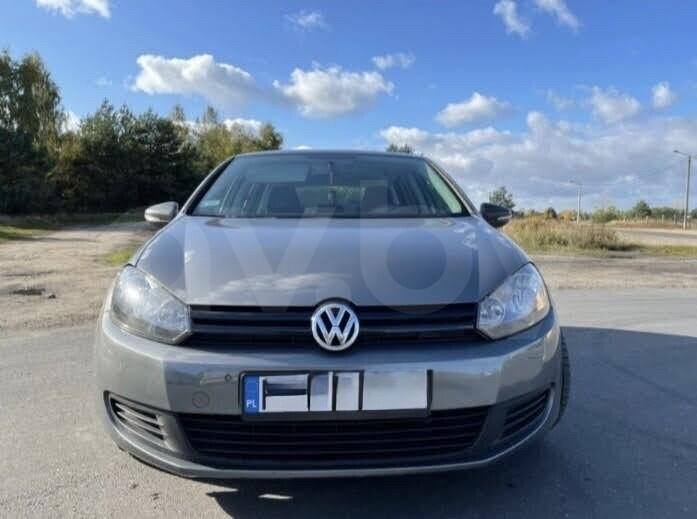Golf_2008-2013: (96, 142, 574, 486)
